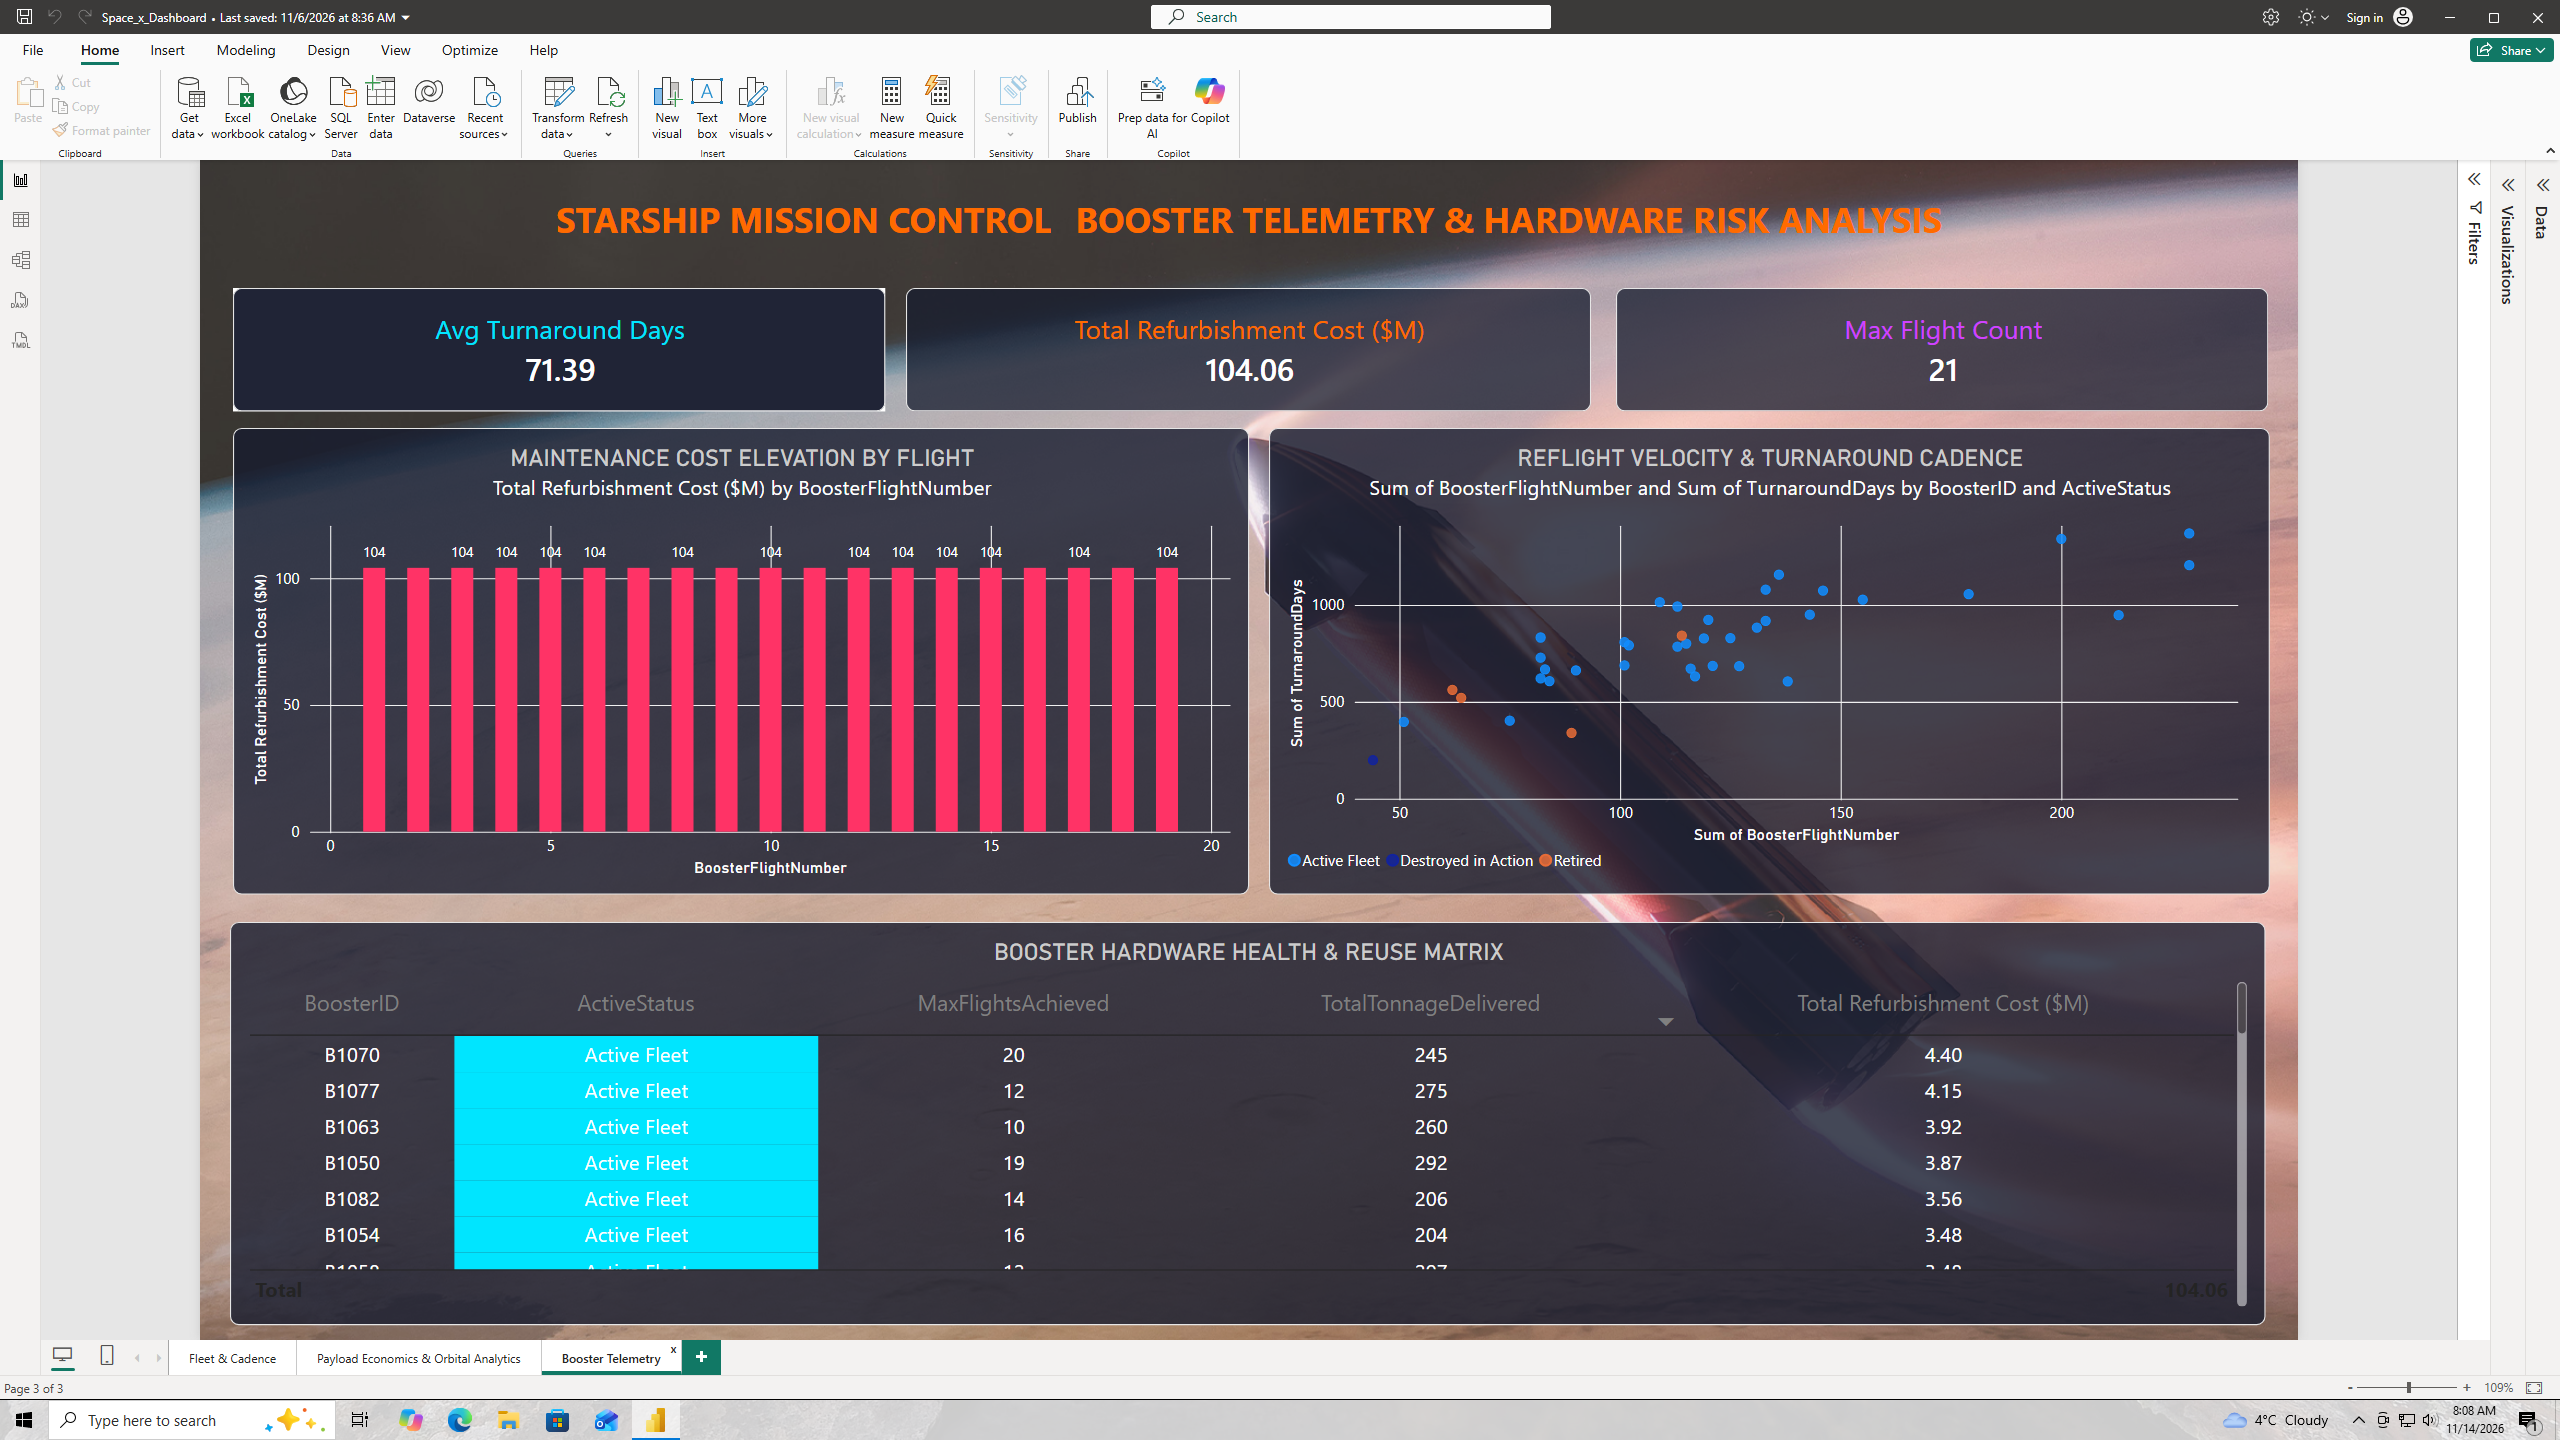

The dashboard page shown, as its layout file describes it:
{"tool":"powerbi","page":{"name":"Booster Telemetry","canvas":[1920,1080],"ordinal":2},"visuals":[{"type":"cardVisual","fields":{"Data":["_Measures.Avg Turnaround Days"]},"box":[30.1,116.9,597.8,113.5],"z":0},{"type":"cardVisual","fields":{"Data":["_Measures.Total Refurbishment Cost ($M)"]},"box":[646.2,116.9,627.8,113.5],"z":1000},{"type":"cardVisual","fields":{"Data":["_Measures.Max Flight Count"]},"box":[1295.7,116.9,597.8,113.5],"z":2000},{"type":"clusteredColumnChart","title":"MAINTENANCE COST ELEVATION BY FLIGHT","fields":{"Category":["Fact_Launches.BoosterFlightNumber"],"Y":["_Measures.Total Refurbishment Cost ($M)"]},"box":[30.1,245.5,930.1,427.5],"z":3000},{"type":"scatterChart","title":"REFLIGHT VELOCITY & TURNAROUND CADENCE","fields":{"Category":["Fact_Launches.BoosterID"],"X":["Sum(Fact_Launches.BoosterFlightNumber)"],"Y":["Sum(Fact_Launches.TurnaroundDays)"],"Series":["Dim_BoosterTelemetry.ActiveStatus"]},"box":[978.5,245.5,915.7,427.3],"z":4000},{"type":"tableEx","title":"BOOSTER HARDWARE HEALTH & REUSE MATRIX","fields":{"Values":["Dim_BoosterTelemetry.BoosterID","Dim_BoosterTelemetry.ActiveStatus","Dim_BoosterTelemetry.MaxFlightsAchieved","Dim_BoosterTelemetry.TotalTonnageDelivered","_Measures.Total Refurbishment Cost ($M)"]},"box":[27.6,697.9,1863.5,369],"z":5000},{"type":"textbox","box":[28.4,31.7,1863.5,73.5],"z":6000}]}

Visuals, with their boxes on the page's 1920x1080 design canvas (x1, y1, x2, y2). These are canvas units, not pixel positions in the 2560x1440 screenshot, which may show the page scaled, cropped or inside an application window:
cardVisual - _Measures.Avg Turnaround Days: bbox=[30, 117, 628, 230]
cardVisual - _Measures.Total Refurbishment Cost ($M): bbox=[646, 117, 1274, 230]
cardVisual - _Measures.Max Flight Count: bbox=[1296, 117, 1894, 230]
"MAINTENANCE COST ELEVATION BY FLIGHT" clusteredColumnChart: bbox=[30, 246, 960, 673]
"REFLIGHT VELOCITY & TURNAROUND CADENCE" scatterChart: bbox=[978, 246, 1894, 673]
"BOOSTER HARDWARE HEALTH & REUSE MATRIX" tableEx: bbox=[28, 698, 1891, 1067]
textbox: bbox=[28, 32, 1892, 105]
